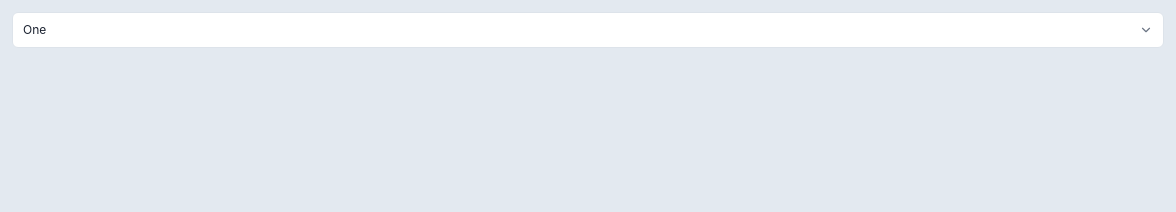
selects an option without a native platform popup
Click the dropdown named "Example". click: (35, 30)
box: top-left (12, 12), bottom-right (1164, 48)
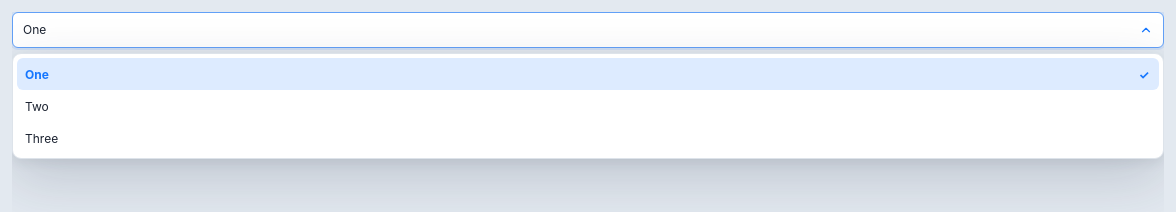
Click the option "Two". click: (37, 106)
box: top-left (17, 90), bottom-right (1159, 122)
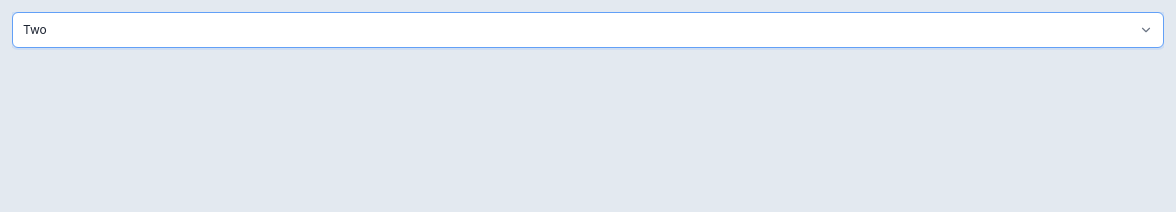
expect the dropdown named "Example" reads "Two": met, box top-left (12, 12), bottom-right (1164, 48)
expect the list is gone: met
